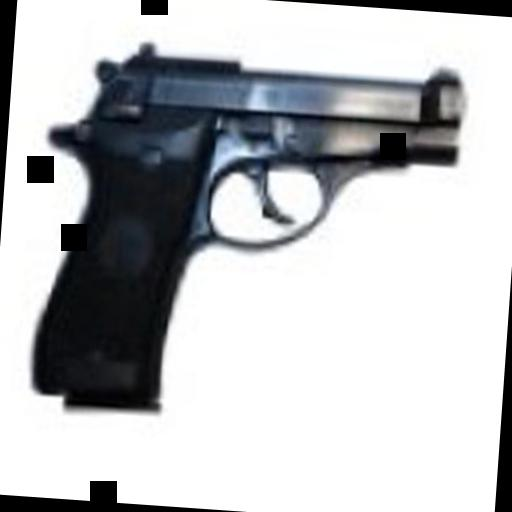Handgun: (22, 22, 471, 448)
